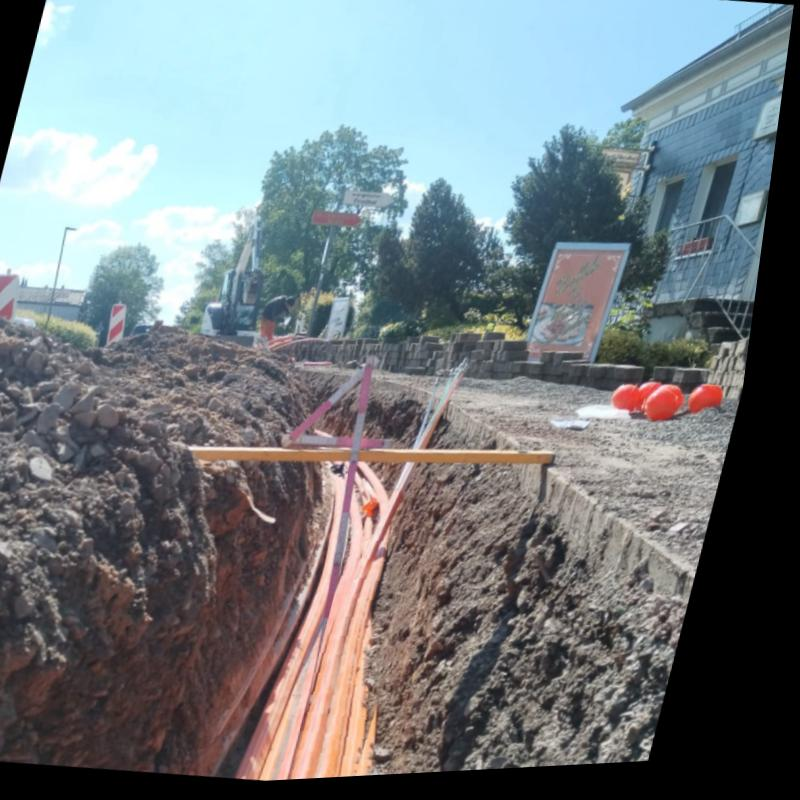Kugelmarker: (656, 398, 689, 428), (700, 392, 733, 421), (624, 392, 654, 419), (669, 393, 695, 417), (649, 391, 672, 418)
Orang-Speednetrohrchen: (258, 519, 356, 785), (317, 531, 405, 784)
